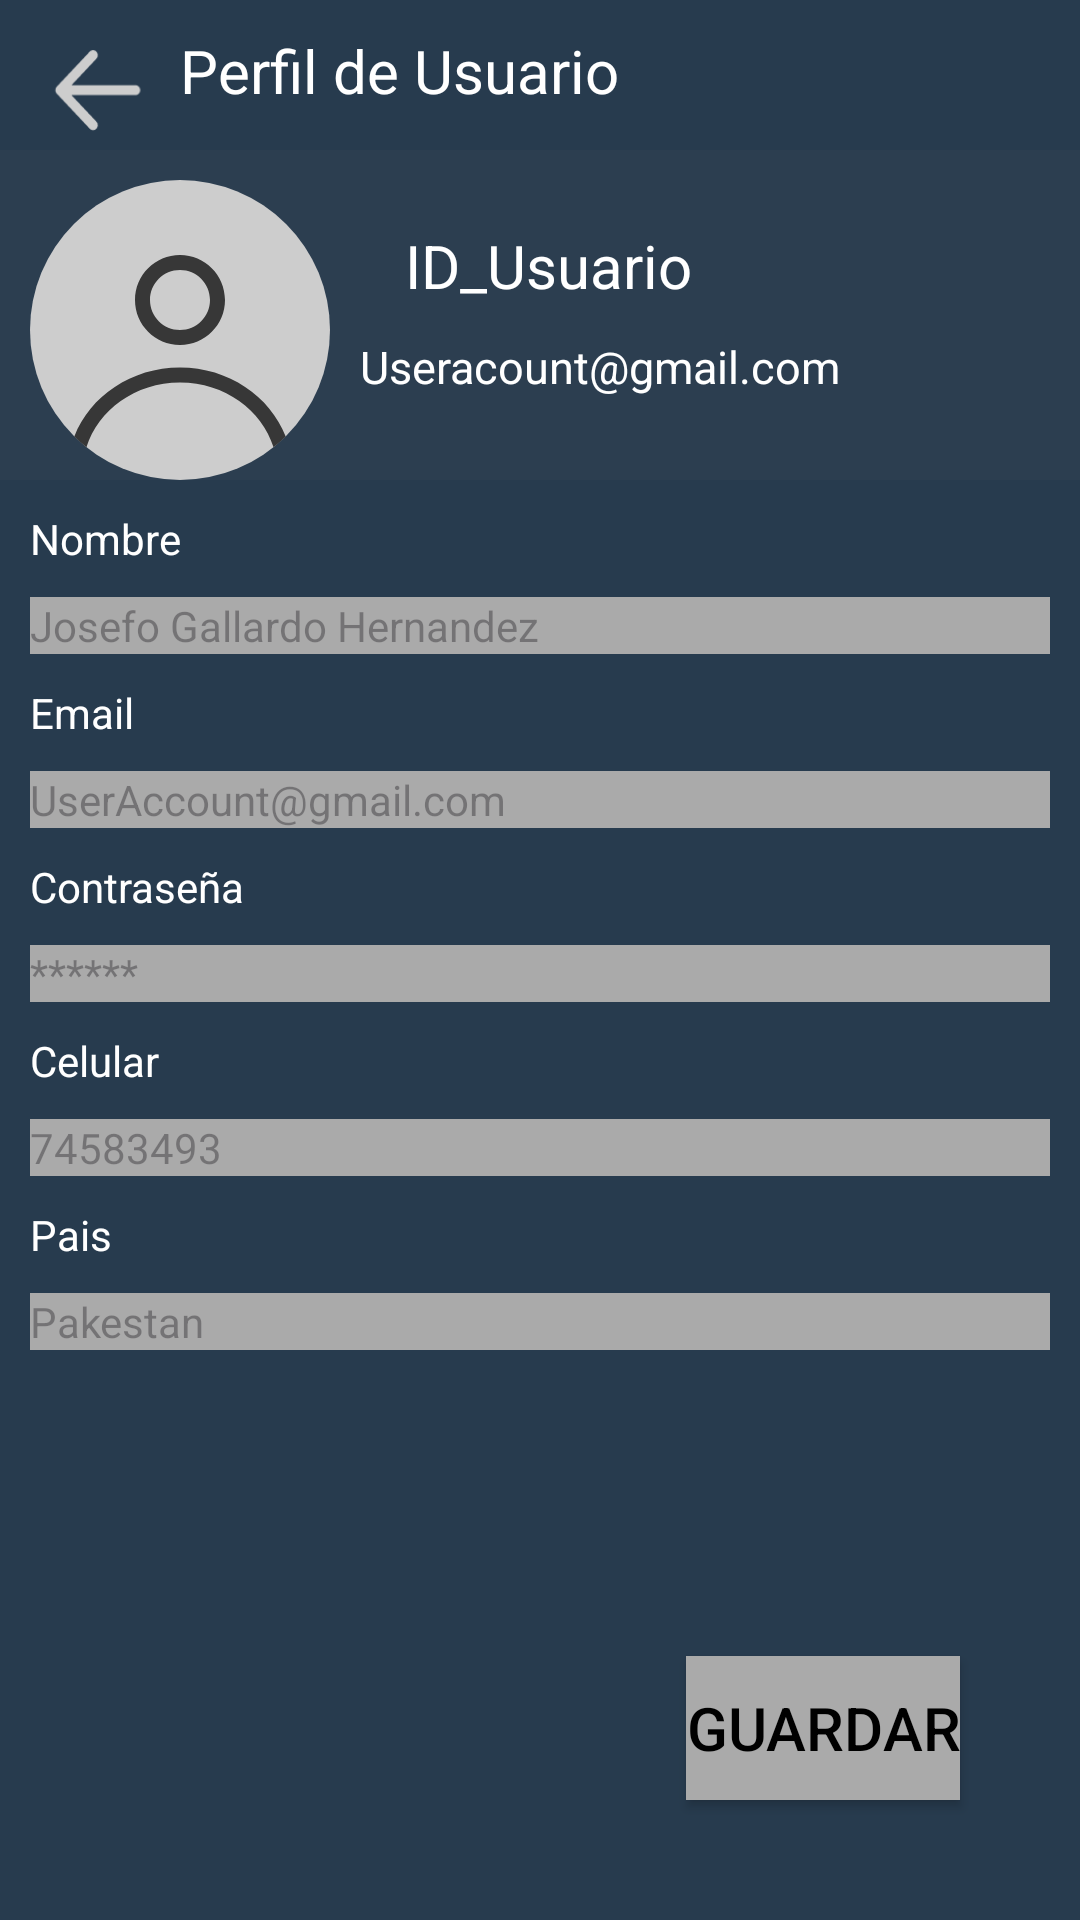

Icons on this 1080w x 1920h Android screen, each with its box as (x1, y1, x2, y2):
left arrow: (55, 50, 141, 131)
